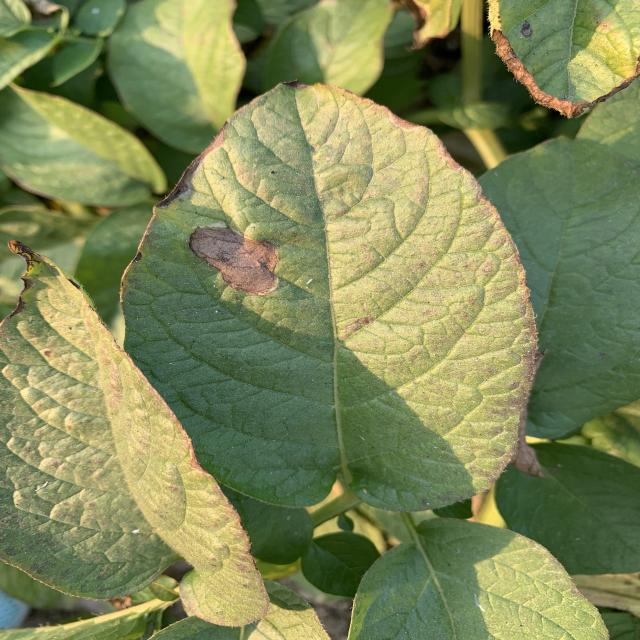lateblight: (188, 226, 278, 295)
